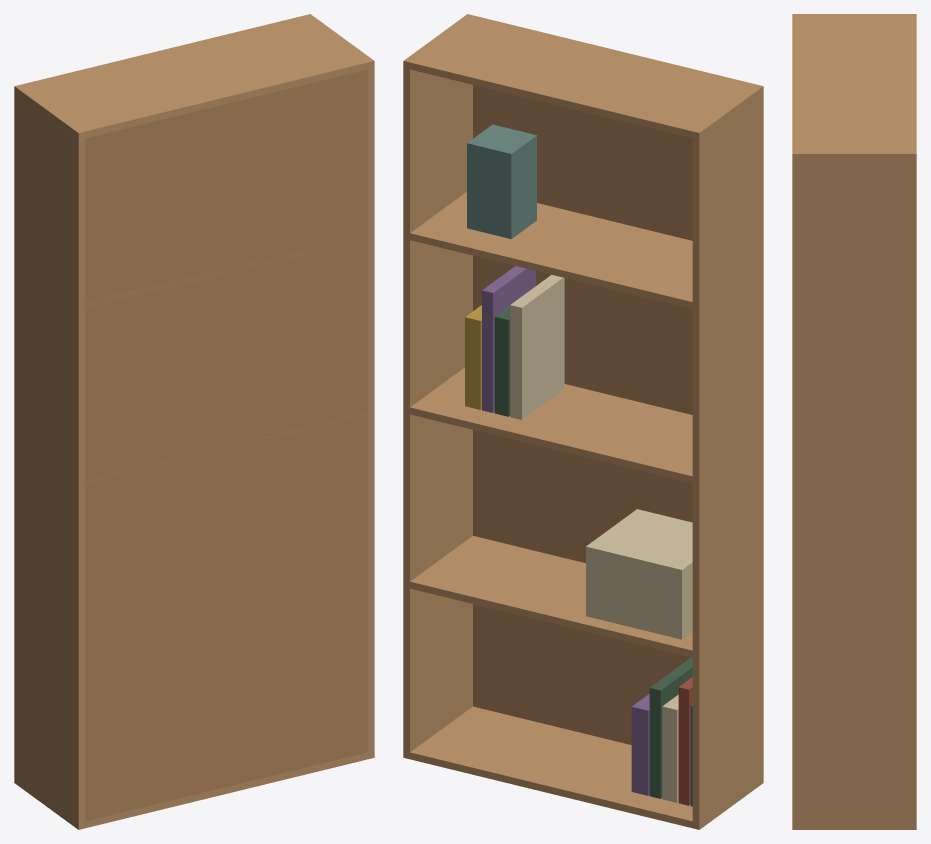
3 renders of one model, left to right at view 1: azimuth 30°, elevation 25°; view 2: azimuth 150°, elevation 25°; view 3: azimuth 270°, elevation 25°, orthographic. The views are drawn at different scales.
Parts seen in each view (by area): view 1: back, side-left, shelf-5, side-right, shelf-1, shelf-4; view 2: back, side-left, side-right, shelf-5, shelf-4, shelf-1, shelf-3, shelf-2, box-c, vase-c, book-b1, book-b3 (+6 smaller); view 3: side-right, shelf-5, side-left.
Part boxes in pixels (x1,y1,x2,y2): back: (85, 69, 367, 821); side-left: (14, 84, 85, 829); shelf-5: (21, 15, 367, 138); side-right: (304, 14, 374, 759); shelf-1: (85, 752, 367, 828); shelf-4: (86, 234, 367, 308); back: (473, 85, 692, 744); side-left: (692, 84, 763, 829); side-right: (403, 14, 473, 759); shelf-5: (410, 15, 756, 138); shelf-4: (410, 192, 692, 308); shelf-1: (410, 706, 692, 828); shelf-3: (410, 367, 692, 483); shelf-2: (410, 536, 692, 657); box-c: (586, 509, 692, 639); vase-c: (467, 124, 536, 238); book-b1: (510, 274, 564, 419); book-b3: (482, 266, 535, 412); side-right: (792, 151, 916, 829); shelf-5: (792, 17, 916, 150); side-left: (792, 14, 916, 16).
Size of the model in its own units: 0.8 by 1.8 by 0.3.
